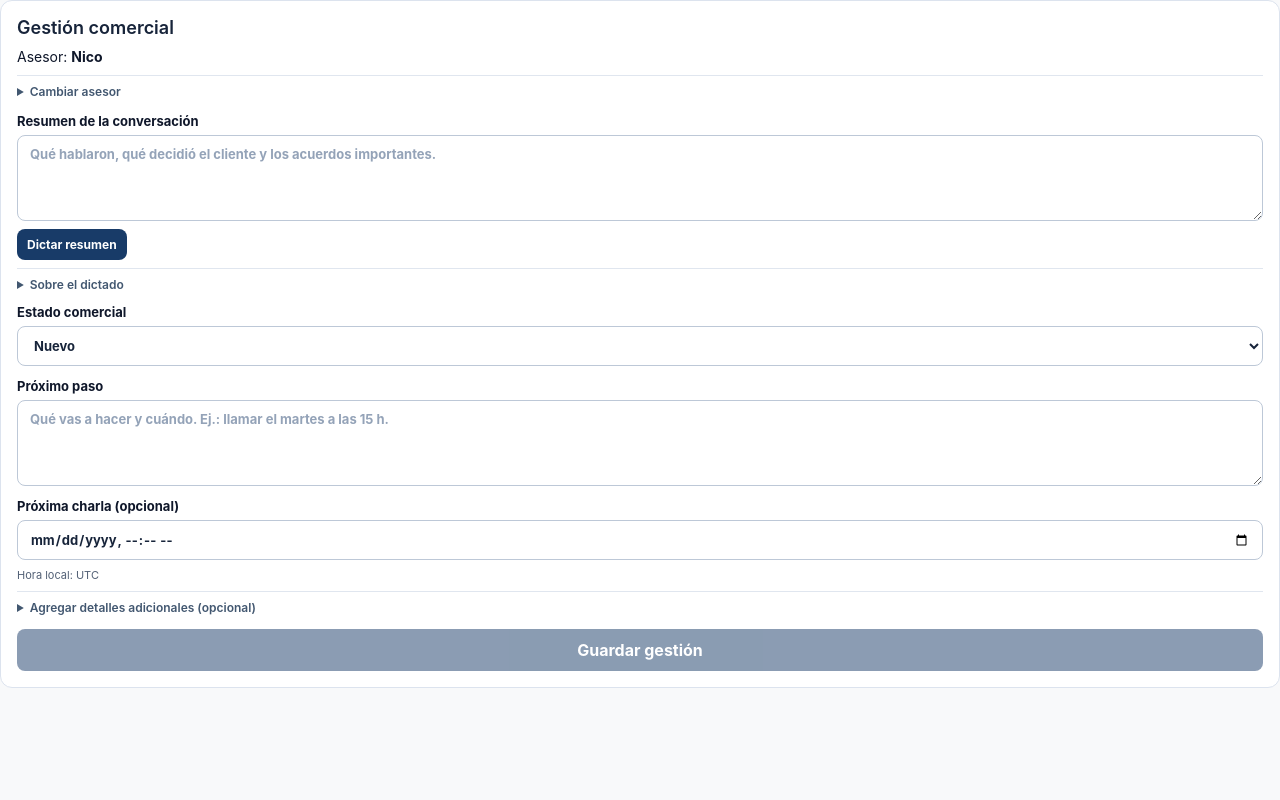
failed summary never advances the case
Select "Cerrado" in the dropdown labelled "Estado comercial" at (640, 346), box [17,326,1263,366]
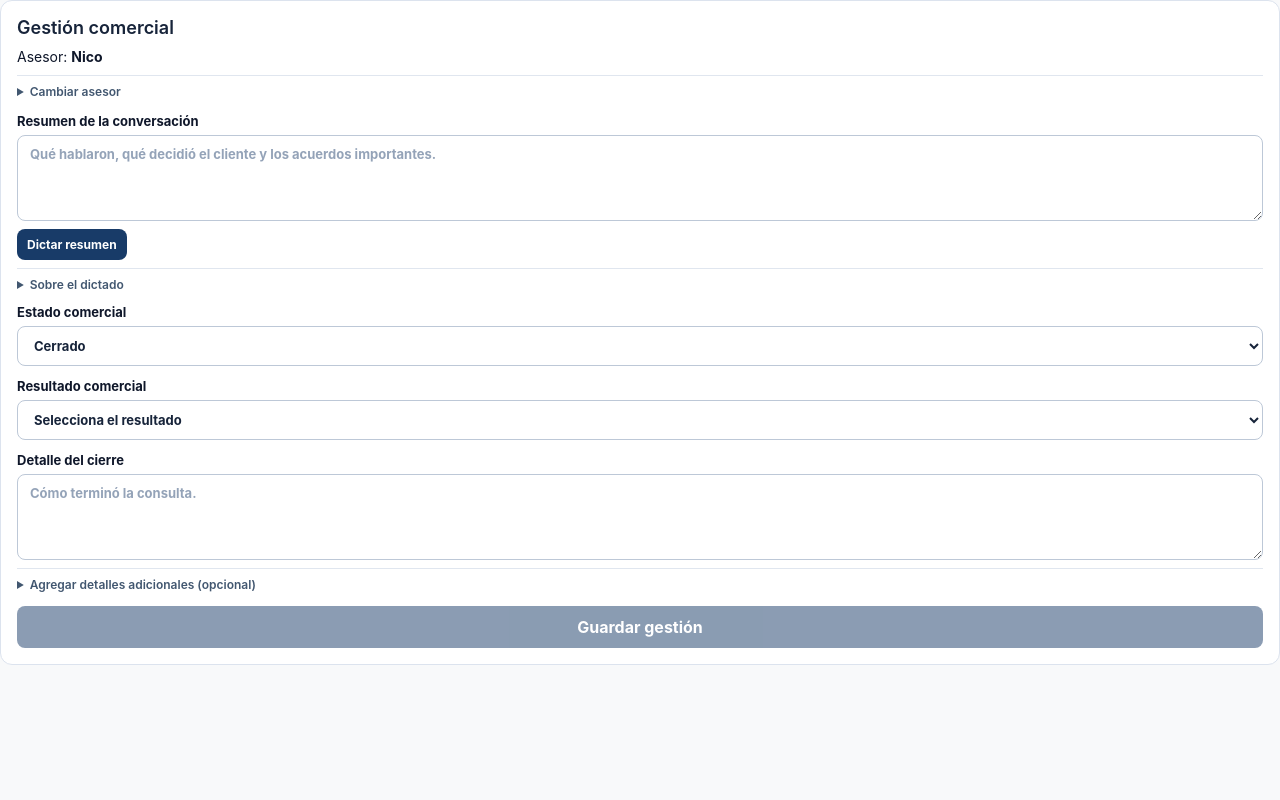
Select "No avanzó" in the dropdown labelled "Resultado comercial" at (640, 420), box [17,400,1263,440]
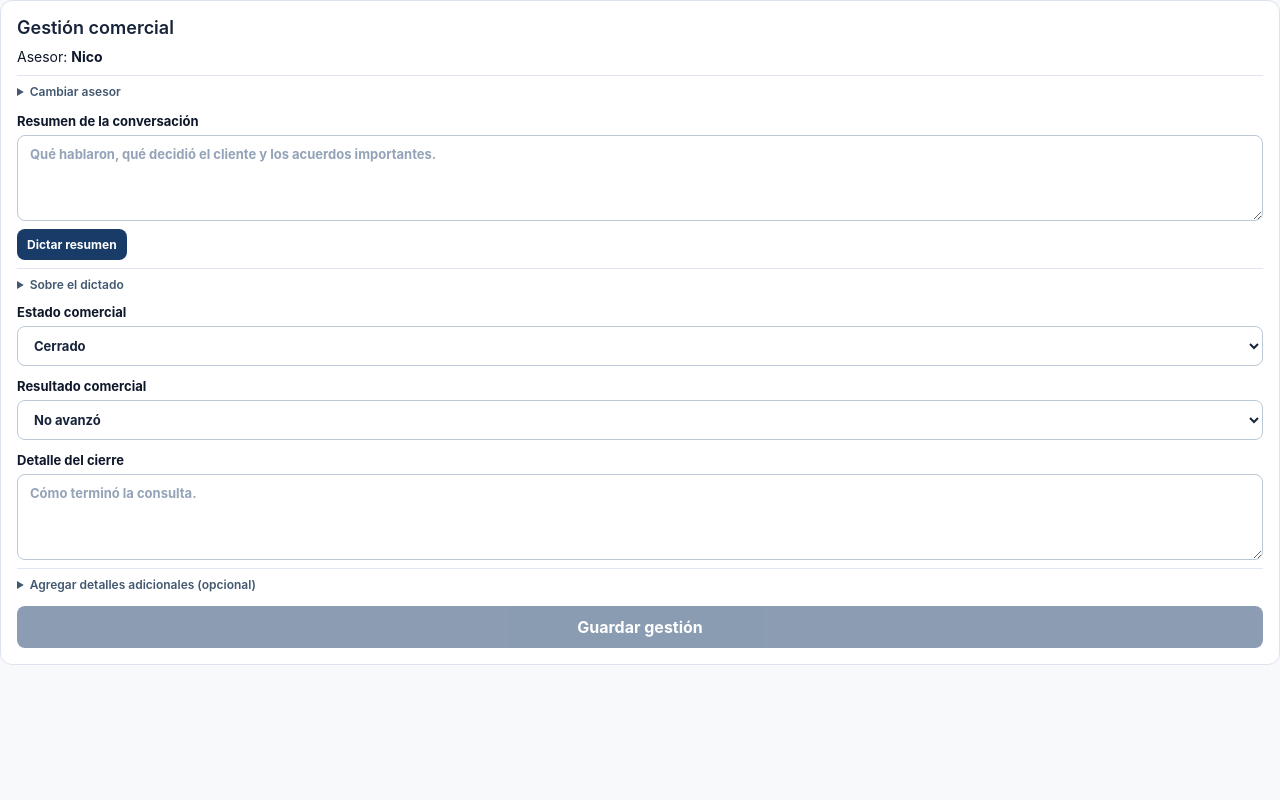
Replace the text in the text box labelled "Resumen de la conversación" with "Datos de atención" at (640, 178), box [17,135,1263,221]
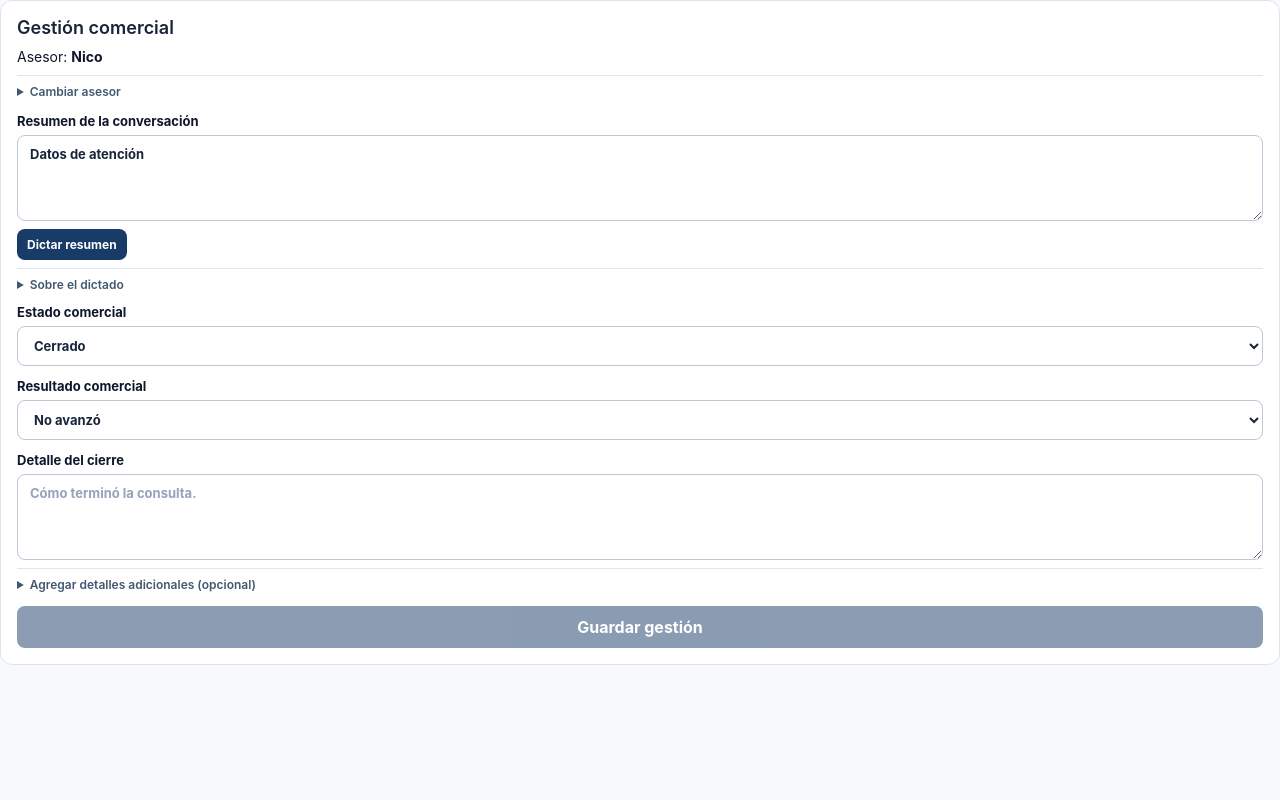
Type "Datos de atención" into the text box labelled "Detalle del cierre" at (640, 517), box [17,474,1263,560]
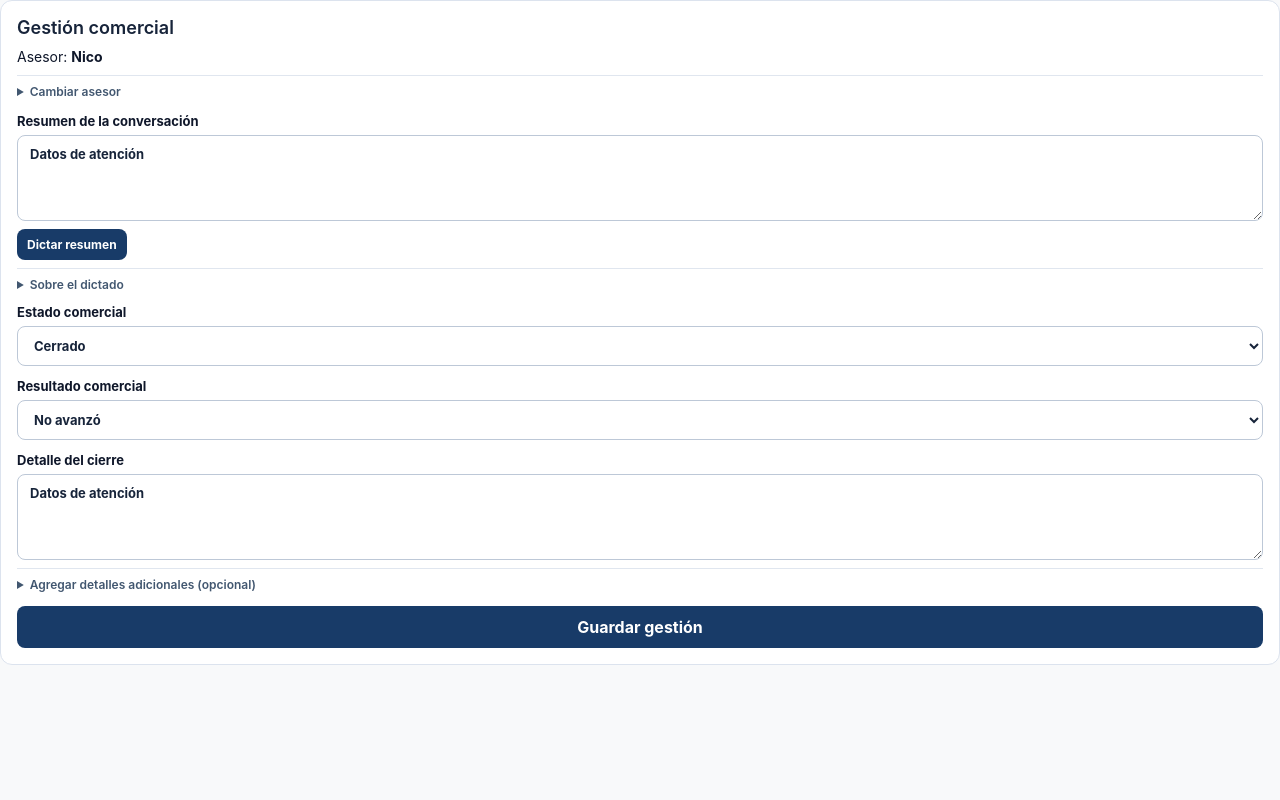
Click the button "Guardar gestión" at (640, 627), box [17,606,1263,648]
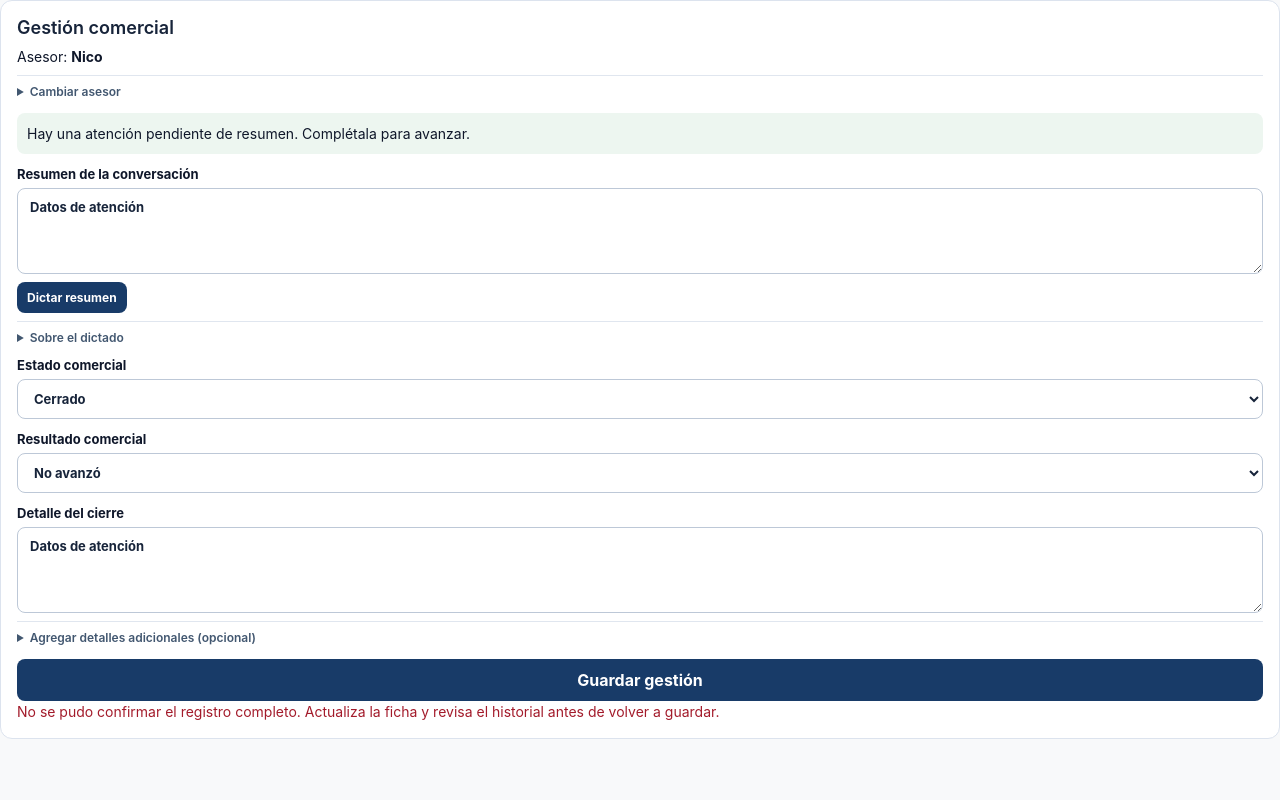
Now the 2nd message is shown, box [17,703,719,720]
